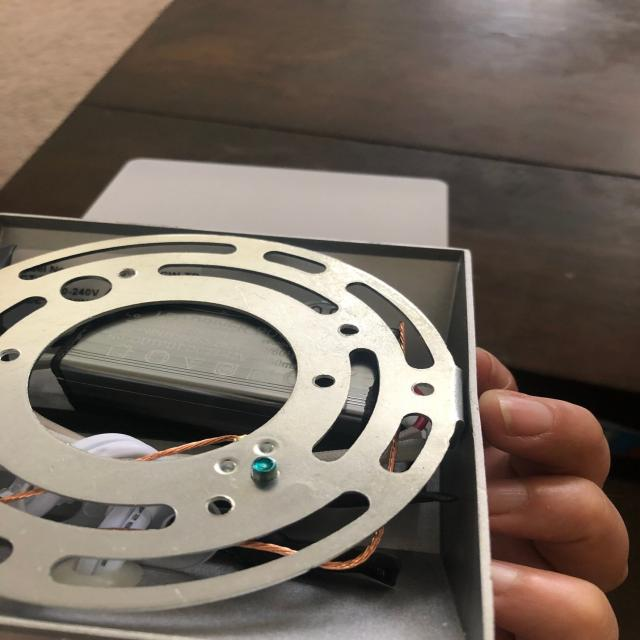electronics: (0, 216, 490, 640), (84, 158, 447, 246), (53, 305, 296, 433), (340, 352, 376, 429), (299, 241, 319, 248), (51, 510, 53, 514), (15, 480, 17, 482), (2, 498, 4, 499), (138, 231, 139, 233)
